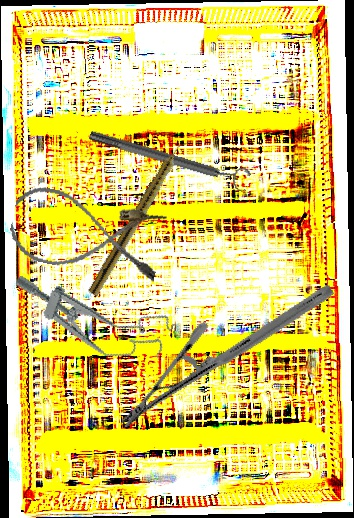Cannula: (4, 182, 169, 286)
Fixation Ring: (86, 121, 253, 195)
Handpiece: (87, 136, 190, 299)
Needle Holder: (117, 228, 337, 485)
Speculum: (3, 263, 178, 375)
